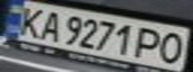1: (112, 21, 139, 56)
2: (78, 16, 100, 51)
7: (93, 18, 118, 53)
9: (57, 12, 84, 47)
A: (33, 9, 66, 43)
K: (9, 3, 48, 38)
O: (154, 29, 190, 64)
P: (133, 25, 169, 61)
